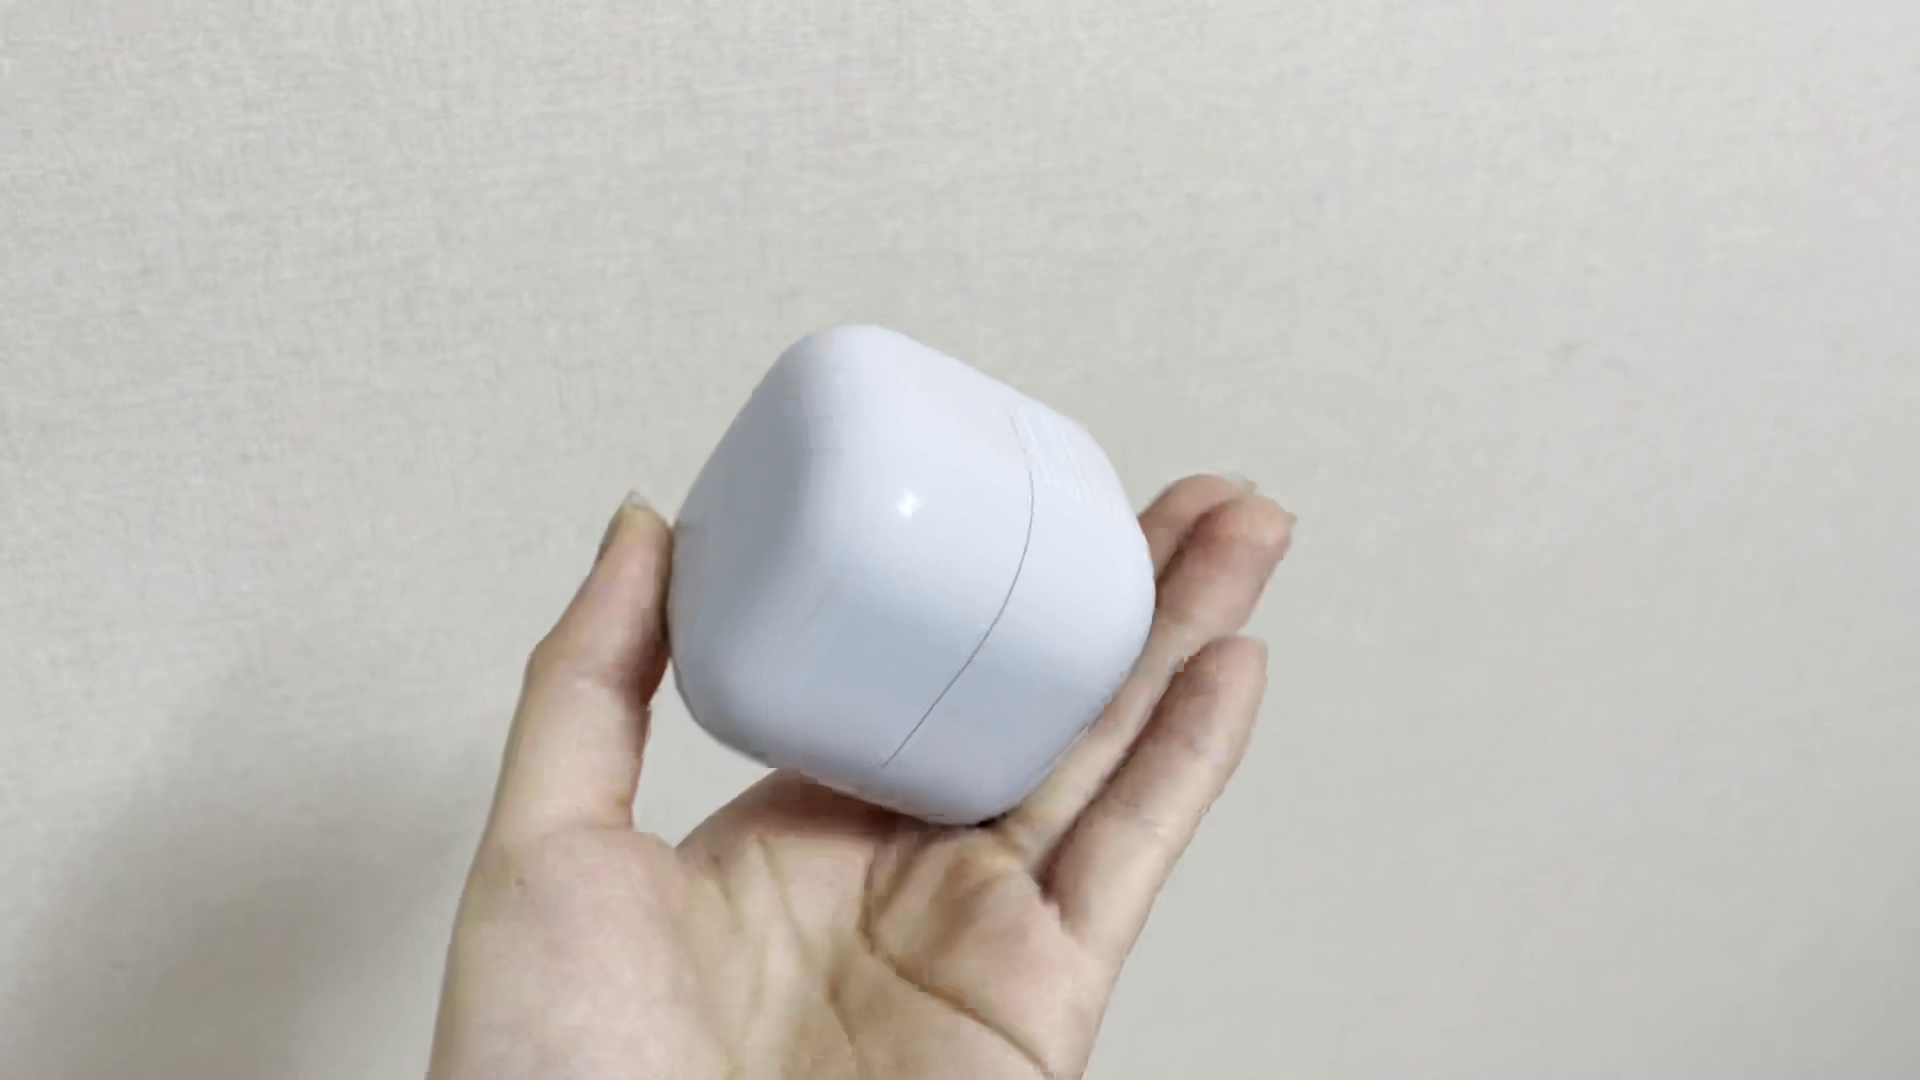cream: (662, 332, 1149, 824)
